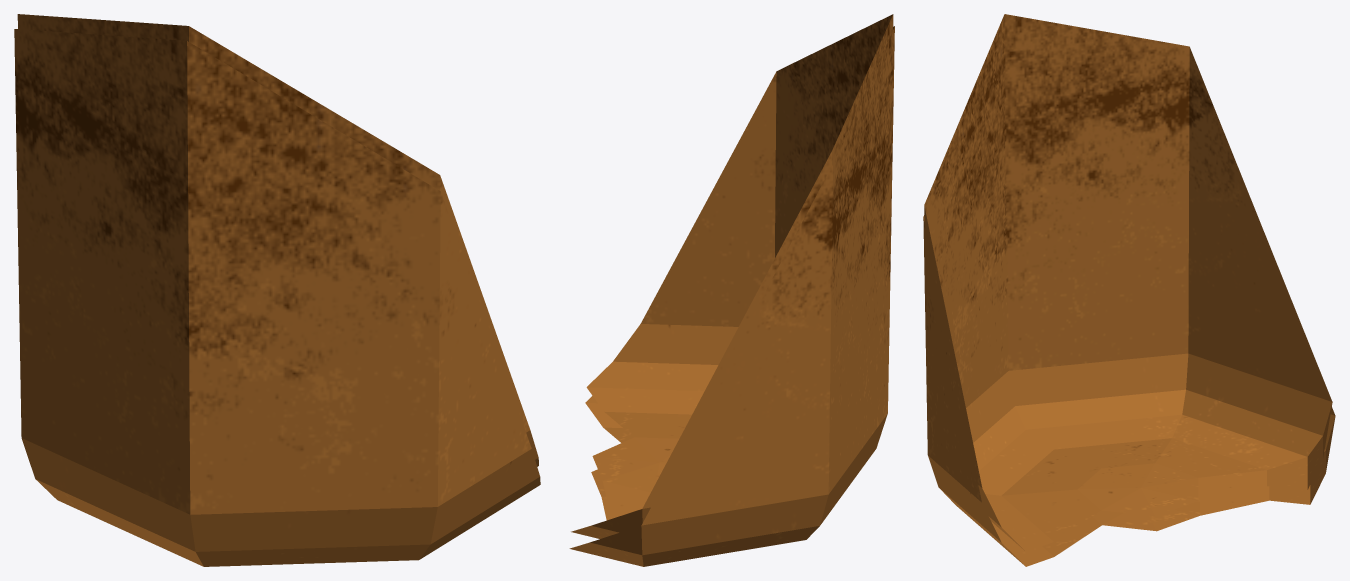
File: Bottle_01.FBX
The picture shows the model from 3 angles, left to right: view 1: azimuth 30°, elevation 25°; view 2: azimuth 150°, elevation 25°; view 3: azimuth 270°, elevation 25°; orthographic projection. The views are drawn at different scales.
Parts seen in each view (by area): view 1: Object009; view 2: Object009; view 3: Object009.
Boxes of the visible parts, x1,y1,x2,y2 form: Object009: [14, 14, 540, 566]; Object009: [569, 14, 894, 566]; Object009: [923, 14, 1335, 566].
Bounding box in the file's own units: 73.42 × 95.31 × 83.95.
Materials: 1 (1 with a texture image).
